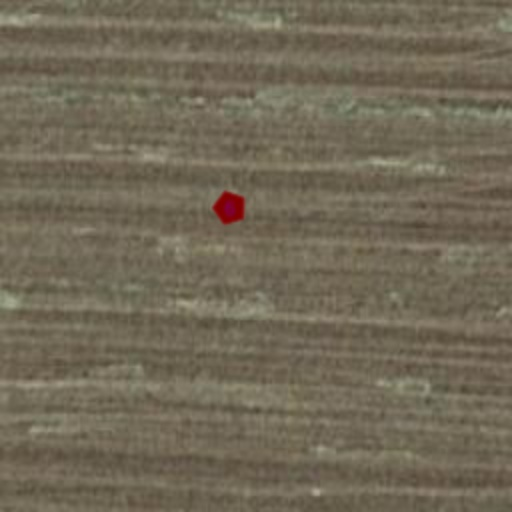pentagon: (210, 188, 250, 228)
